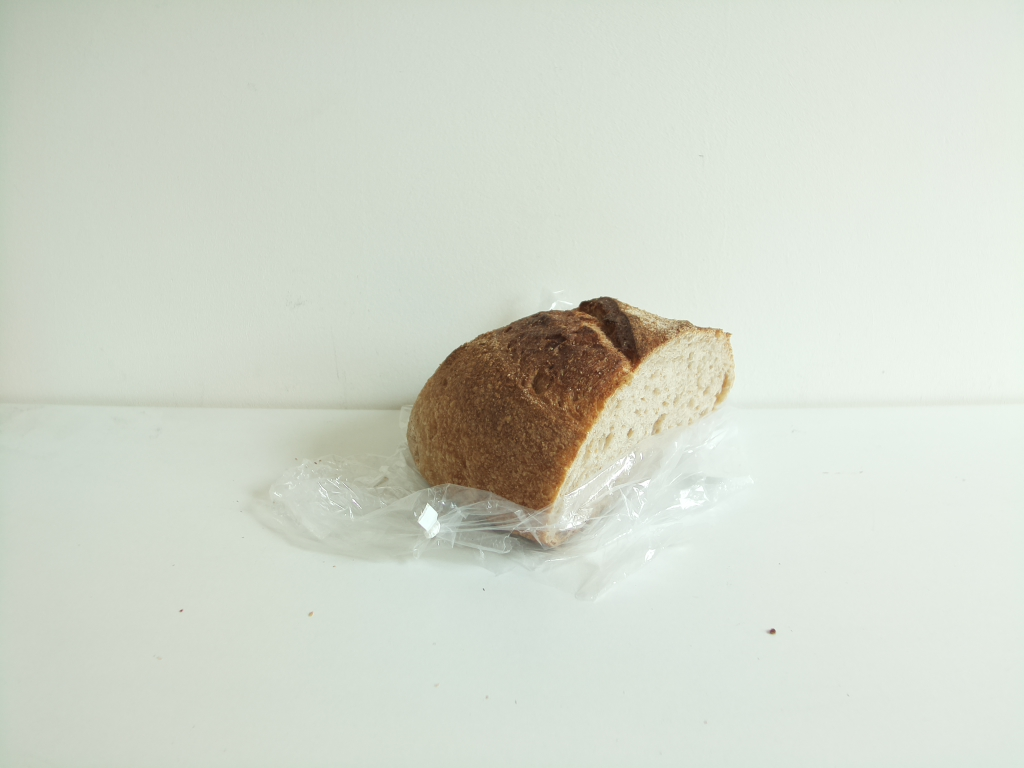bread: (403, 296, 733, 554)
